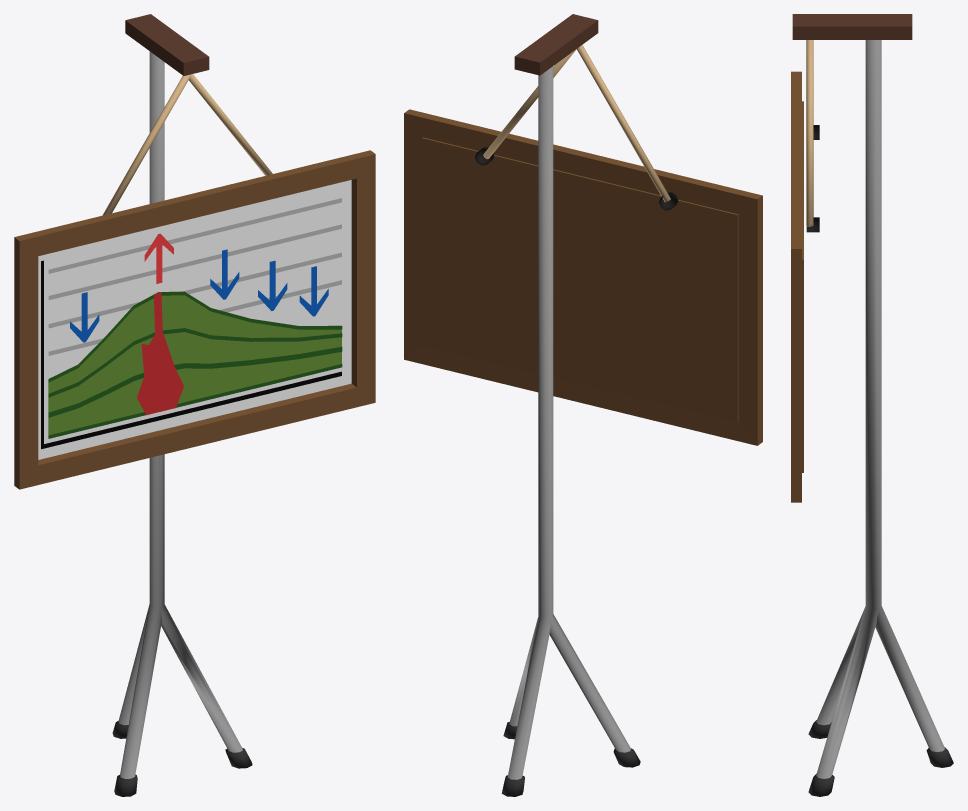
The model's file is l-image-sciencegeo-1.glb.
3 views of the same model, side by side, from view 1: azimuth 30°, elevation 25°; view 2: azimuth 150°, elevation 25°; view 3: azimuth 270°, elevation 25° (orthographic). The views are drawn at different scales.
Parts seen in each view (by area): view 1: Plane.022; view 2: Plane.022; view 3: Plane.022.
Part boxes in pixels (x1,y1,x2,y2): Plane.022: (14,14,375,796); Plane.022: (404,14,762,796); Plane.022: (791,14,953,796).
Size of the model in its own units: 1.32 by 2.58 by 0.5122.
1 material, 1 textured.
